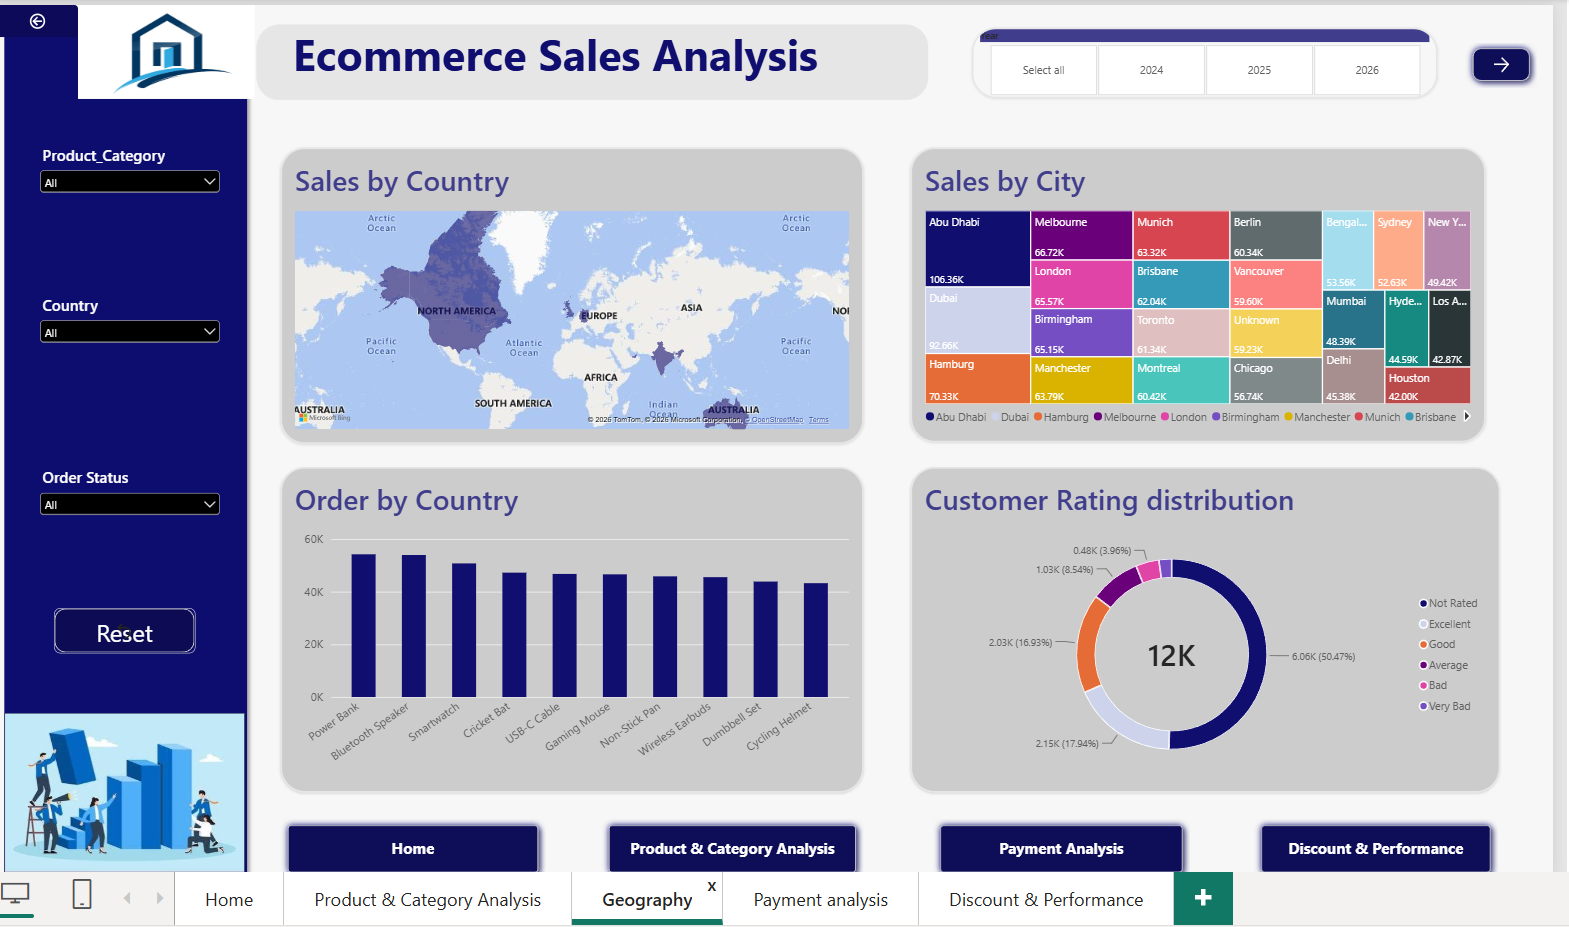

This screenshot's page, from the dashboard's own definition file:
{"tool":"powerbi","page":{"name":"Geography","canvas":[1920,1080],"ordinal":2},"visuals":[{"type":"textbox","box":[320.3,25,829,93.1],"z":0},{"type":"filledMap","title":"Sales by Country","fields":{"Category":["Location_details.Country"]},"box":[350,176,720,366],"z":1000},{"type":"shape","box":[0,2.9,317.8,1077.5],"z":2000},{"type":"slicer","title":"Total Sales","fields":{"Values":["Sales_details.Order_Date.Variation.Date Hierarchy.Year"]},"box":[1204.2,28.1,574.6,87.1],"z":3000},{"type":"slicer","fields":{"Values":["product_details.Product_Category"]},"box":[47.4,172.9,231.7,153.3],"z":4000},{"type":"slicer","fields":{"Values":["Location_details.Country"]},"box":[47.4,357.6,231.7,168.3],"z":5000},{"type":"slicer","fields":{"Values":["Sales_details.Order_Status_Consistency"]},"box":[47.4,570.8,231.7,138.3],"z":6000},{"type":"treemap","title":"Sales by City","fields":{"Group":["Location_details.Shipping_City"],"Values":["Sales_details.Total_sales"]},"box":[1128,176,710,364],"z":7000},{"type":"columnChart","title":"Order by Country","fields":{"Category":["product_details.Product_Name"],"Y":["Sales_details.Total_sales"]},"box":[350,570,720,402],"z":8000},{"type":"donutChart","title":"Customer Rating distribution","fields":{"Y":["CountNonNull(Sales_details.Customer_Rating)"],"Category":["Sales_details.Rating Status"]},"box":[1128,570,728,402],"z":9000},{"type":"actionButton","box":[0,0,100,40],"z":10000},{"type":"actionButton","box":[1812.3,44.2,88.3,58.2],"z":11000},{"type":"actionButton","title":"Product & Category Analysis","box":[746.6,1003.5,323.1,76.3],"z":12000},{"type":"actionButton","title":"Product & Category Analysis","box":[349.2,1003.5,327.1,76.3],"z":13000},{"type":"actionButton","title":"Product & Category Analysis","box":[1156,1003.5,317.1,76.3],"z":14000},{"type":"actionButton","title":"Product & Category Analysis","box":[1551.4,1003.5,301,76.3],"z":15000},{"type":"image","box":[99.5,0,217.9,116.1],"z":16000},{"type":"actionButton","title":"Reset","box":[71.1,743.7,174.6,56.2],"z":17000},{"type":"image","box":[9.3,874.9,296.6,196.5],"z":18000}]}

Visuals, with their boxes on the page's 1920x1080 design canvas (x1, y1, x2, y2). These are canvas units, not pixel positions in the 1569x927 screenshot, which may show the page scaled, cropped or inside an application window:
textbox: (left=320, top=25, right=1149, bottom=118)
"Sales by Country" filledMap: (left=350, top=176, right=1070, bottom=542)
shape: (left=0, top=3, right=318, bottom=1080)
"Total Sales" slicer: (left=1204, top=28, right=1779, bottom=115)
slicer - product_details.Product_Category: (left=47, top=173, right=279, bottom=326)
slicer - Location_details.Country: (left=47, top=358, right=279, bottom=526)
slicer - Sales_details.Order_Status_Consistency: (left=47, top=571, right=279, bottom=709)
"Sales by City" treemap: (left=1128, top=176, right=1838, bottom=540)
"Order by Country" columnChart: (left=350, top=570, right=1070, bottom=972)
"Customer Rating distribution" donutChart: (left=1128, top=570, right=1856, bottom=972)
actionButton: (left=0, top=0, right=100, bottom=40)
actionButton: (left=1812, top=44, right=1901, bottom=102)
"Product & Category Analysis" actionButton: (left=747, top=1004, right=1070, bottom=1080)
"Product & Category Analysis" actionButton: (left=349, top=1004, right=676, bottom=1080)
"Product & Category Analysis" actionButton: (left=1156, top=1004, right=1473, bottom=1080)
"Product & Category Analysis" actionButton: (left=1551, top=1004, right=1852, bottom=1080)
image: (left=100, top=0, right=317, bottom=116)
"Reset" actionButton: (left=71, top=744, right=246, bottom=800)
image: (left=9, top=875, right=306, bottom=1071)
